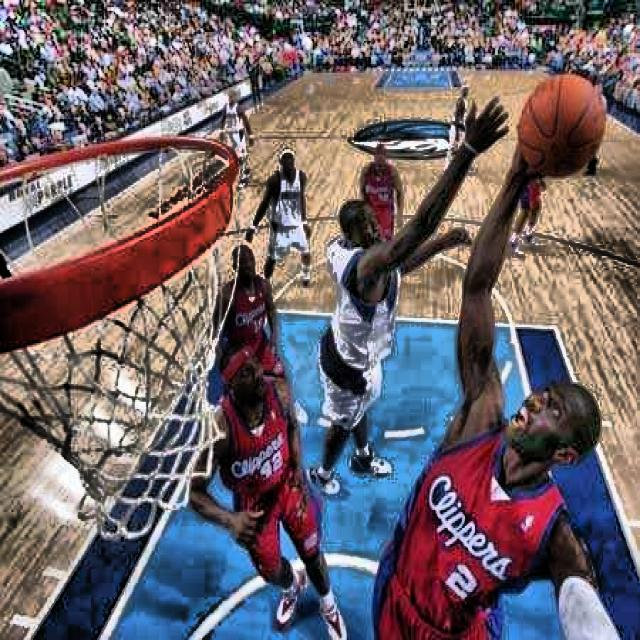board: (519, 75, 606, 177)
rim: (0, 134, 236, 534)
